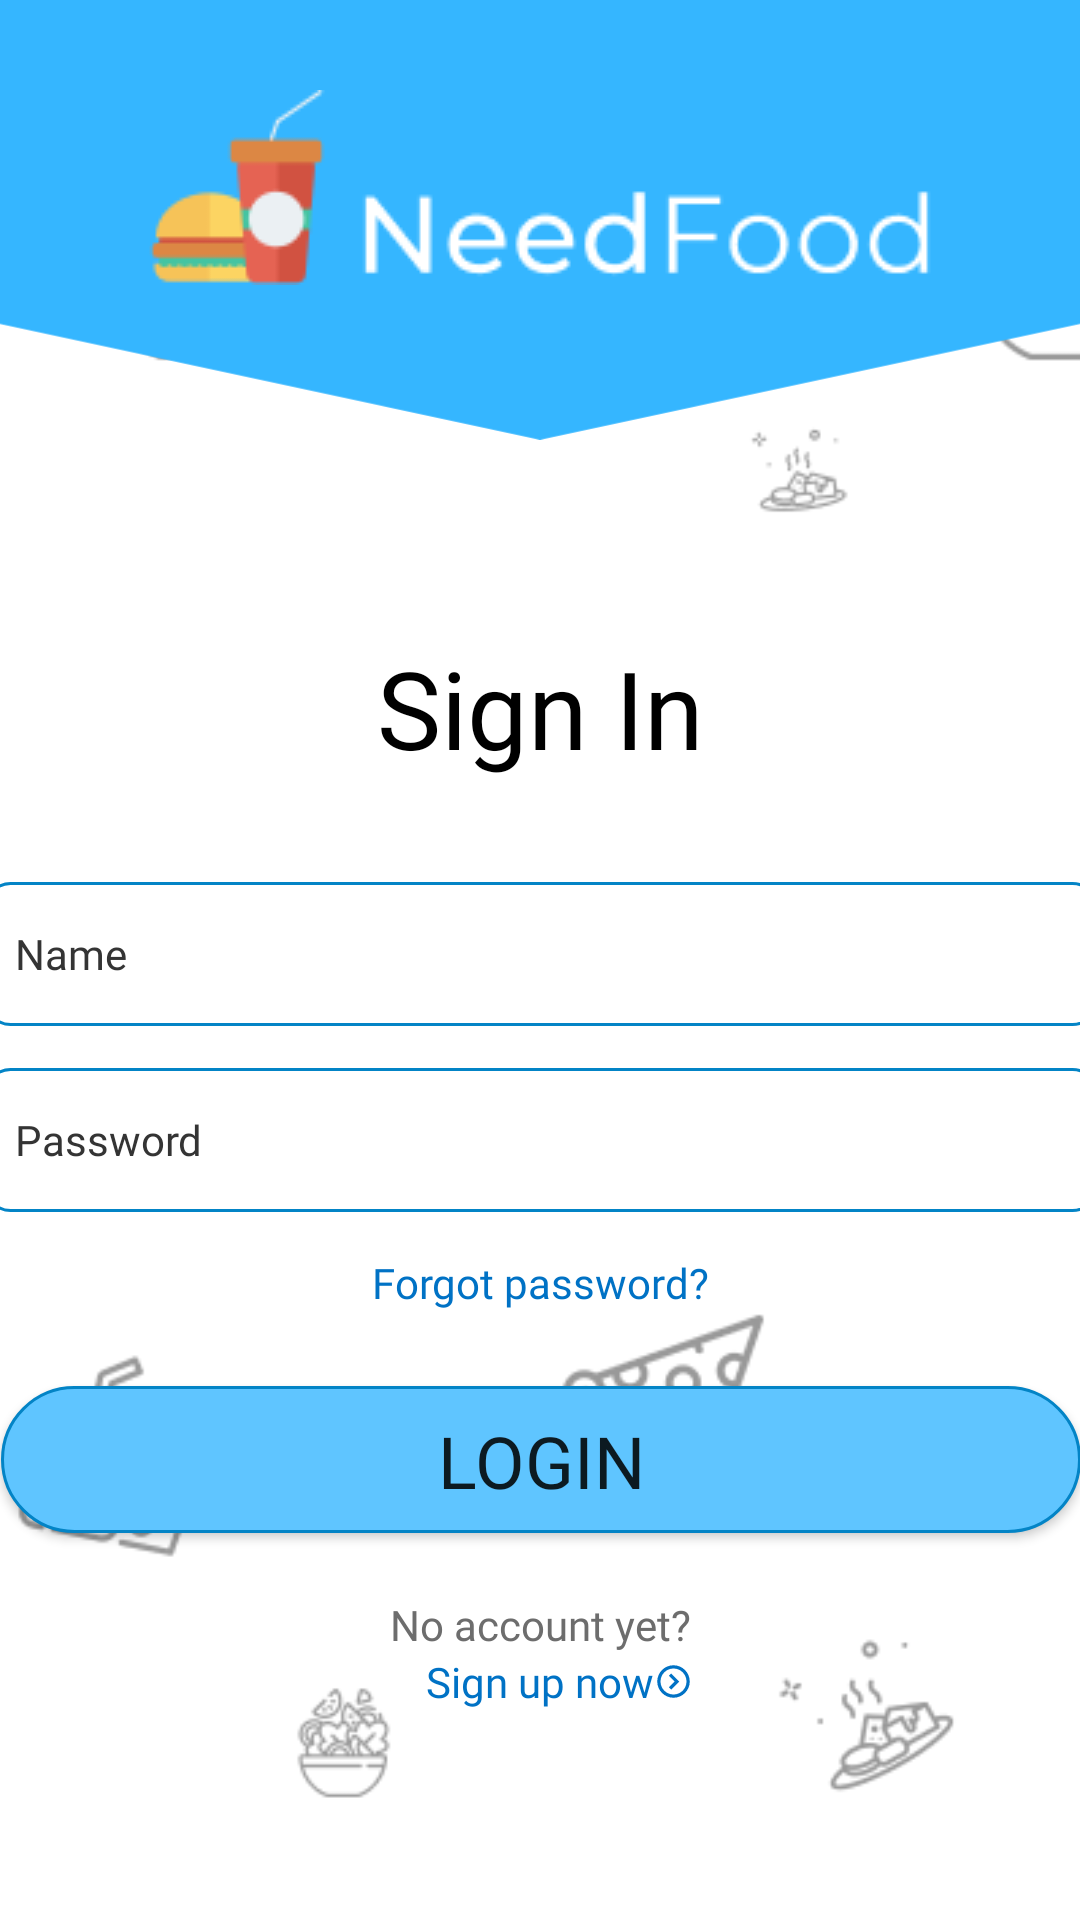

Icons on this 1080px×1920px Android screen, each with its box as (x1, y1, x2, y2):
circle chevron right: (657, 1665, 690, 1698)
